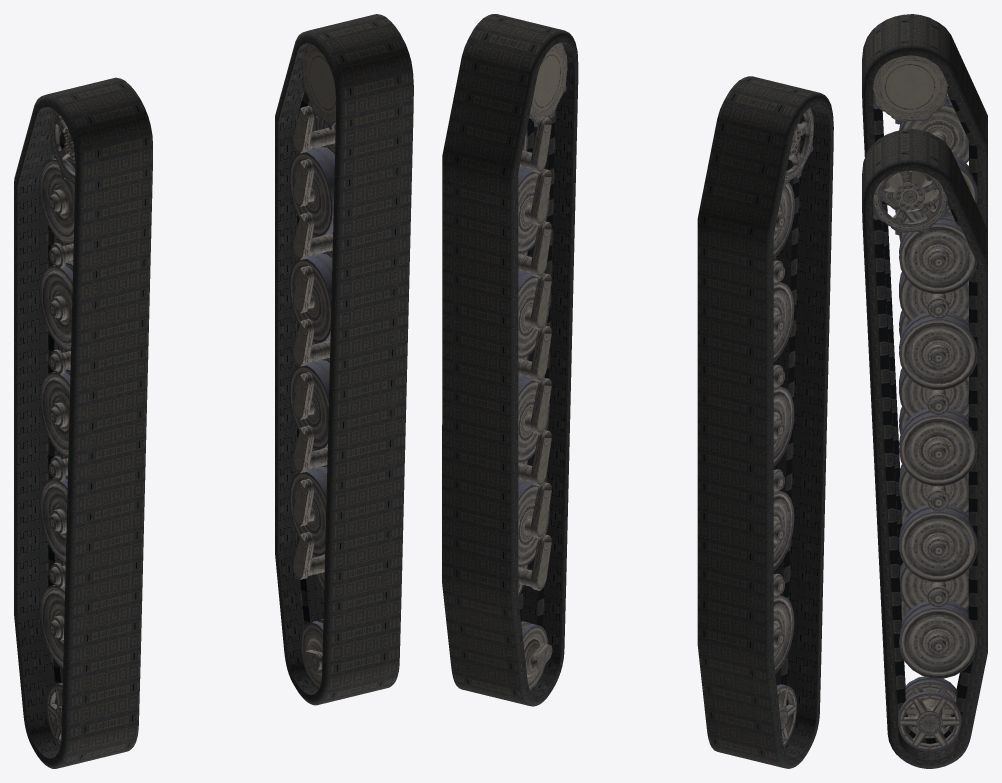
Rendered from Chassis.glb.
3 views of the same model, side by side, from view 1: azimuth 30°, elevation 25°; view 2: azimuth 150°, elevation 25°; view 3: azimuth 270°, elevation 25° (orthographic). The views are drawn at different scales.
Visible parts, largest first — view 1: set_0_group_0, set_1_group_0, set_3_group_0, set_2_group_0; view 2: set_0_group_0, set_1_group_0, set_3_group_0, set_2_group_0; view 3: set_3_group_0, set_1_group_0, set_0_group_0, set_2_group_0.
Part boxes in pixels (box(x1,y1,x2,y2)): set_0_group_0: box(14, 77, 152, 768); set_1_group_0: box(275, 14, 413, 705); set_3_group_0: box(289, 43, 336, 689); set_2_group_0: box(39, 110, 75, 746); set_0_group_0: box(697, 76, 833, 768); set_1_group_0: box(442, 14, 578, 706); set_3_group_0: box(518, 42, 567, 690); set_2_group_0: box(773, 107, 813, 746); set_3_group_0: box(873, 170, 977, 751); set_1_group_0: box(862, 129, 987, 768); set_0_group_0: box(862, 14, 987, 611); set_2_group_0: box(872, 55, 977, 620).
Bounding box in the file's own units: 3.61 × 6.95 × 1.3.
Materials: 4 (4 with a texture image).
